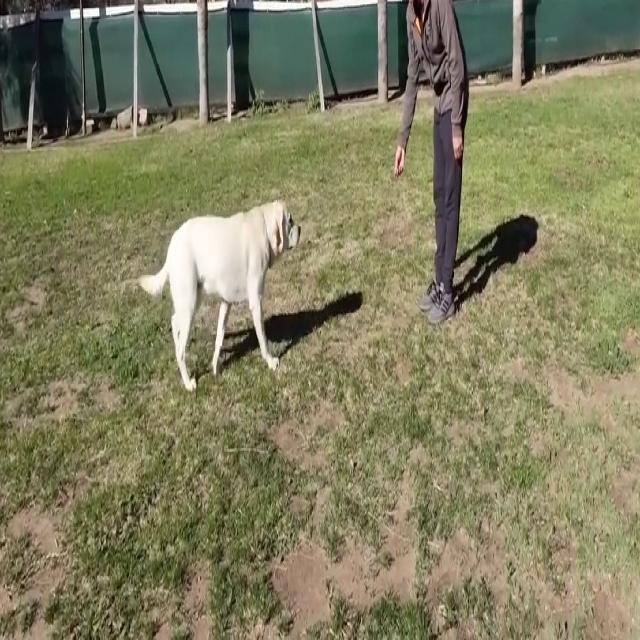Unleashed_Dog: (136, 108, 452, 394)
